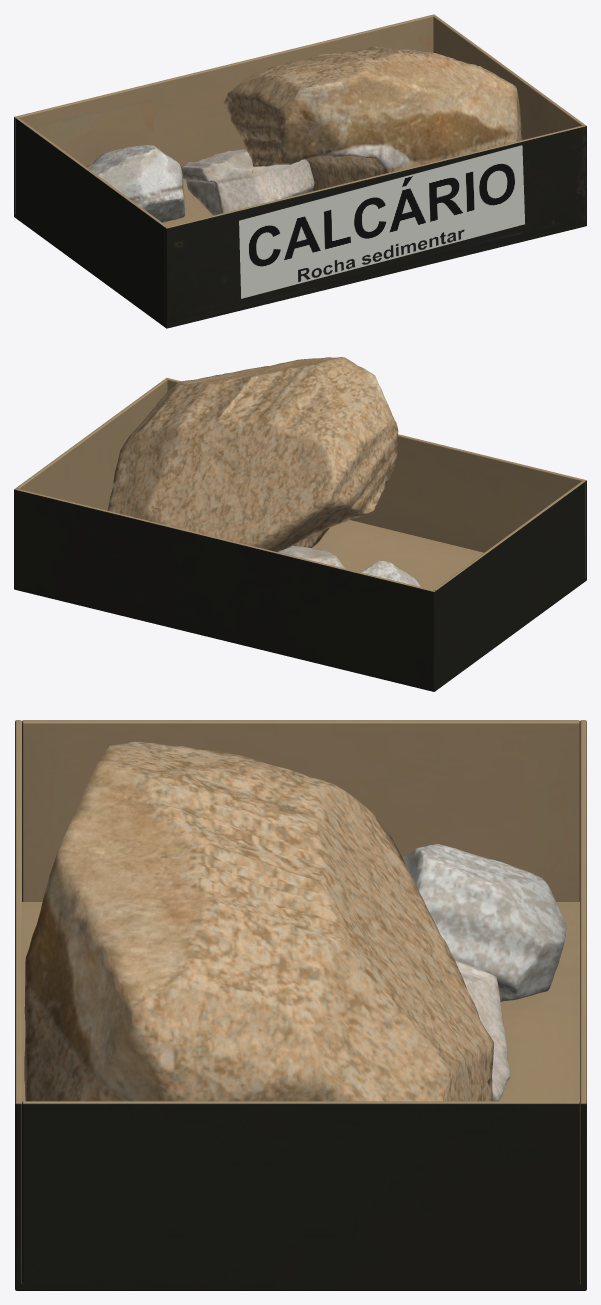
Rendered from rocha_02_05_calcario.glb.
3 views of the same model, one above another, from view 1: azimuth 30°, elevation 25°; view 2: azimuth 150°, elevation 25°; view 3: azimuth 270°, elevation 25° (orthographic). The views are drawn at different scales.
Parts seen in each view (by area): view 1: Fragmento_01_mo05, Etiqueta_mo05, Bandeja_Frente_mo05, Bandeja_Fundo_mo05, Bandeja_Esquerda_mo05, Fragmento_03_mo05, Fragmento_02_mo05, Bandeja_Direita_mo05, Bandeja_Base_mo05; view 2: Bandeja_Fundo_mo05, Fragmento_01_mo05, Bandeja_Esquerda_mo05, Bandeja_Frente_mo05, Bandeja_Base_mo05, Bandeja_Direita_mo05, Fragmento_02_mo05, Fragmento_03_mo05; view 3: Fragmento_01_mo05, Bandeja_Direita_mo05, Bandeja_Esquerda_mo05, Fragmento_02_mo05, Bandeja_Base_mo05, Bandeja_Frente_mo05, Bandeja_Fundo_mo05, Fragmento_03_mo05.
Boxes of the visible parts, x1,y1,x2,y2 form: Fragmento_01_mo05: [223, 46, 522, 190]; Etiqueta_mo05: [239, 145, 524, 298]; Bandeja_Frente_mo05: [165, 125, 586, 327]; Bandeja_Fundo_mo05: [14, 14, 435, 216]; Bandeja_Esquerda_mo05: [16, 117, 167, 326]; Fragmento_03_mo05: [181, 149, 314, 215]; Fragmento_02_mo05: [86, 145, 185, 222]; Bandeja_Direita_mo05: [433, 15, 584, 139]; Bandeja_Base_mo05: [14, 179, 586, 328]; Bandeja_Fundo_mo05: [14, 488, 435, 691]; Fragmento_01_mo05: [107, 357, 398, 551]; Bandeja_Esquerda_mo05: [434, 481, 584, 689]; Bandeja_Frente_mo05: [165, 378, 586, 580]; Bandeja_Base_mo05: [14, 520, 586, 691]; Bandeja_Direita_mo05: [16, 379, 167, 510]; Fragmento_02_mo05: [360, 560, 420, 586]; Fragmento_03_mo05: [278, 545, 345, 568]; Fragmento_01_mo05: [24, 741, 493, 1101]; Bandeja_Direita_mo05: [22, 1101, 579, 1290]; Bandeja_Esquerda_mo05: [22, 720, 579, 901]; Fragmento_02_mo05: [402, 844, 566, 1001]; Bandeja_Base_mo05: [15, 902, 586, 1290]; Bandeja_Frente_mo05: [15, 720, 21, 1290]; Bandeja_Fundo_mo05: [580, 720, 586, 1290]; Fragmento_03_mo05: [455, 960, 510, 1101].
Bounding box in the file's own units: 0.198 × 0.0835 × 0.1248.
3 materials, 3 textured.
